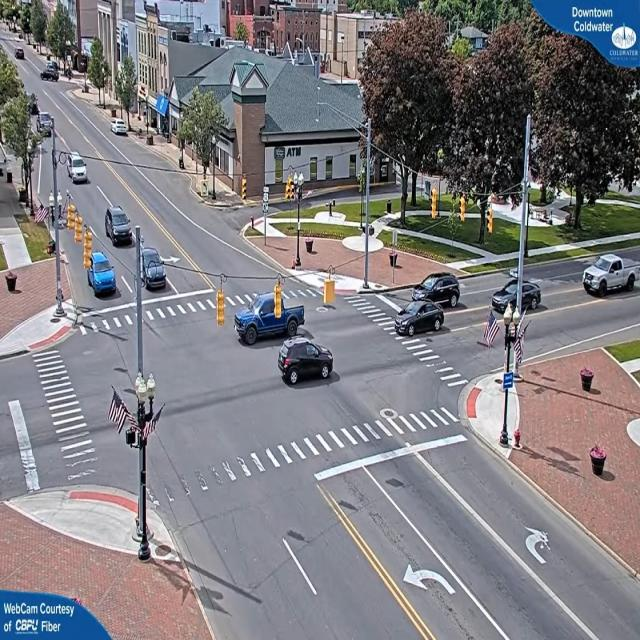car: (234, 285, 304, 341), (277, 338, 336, 389), (580, 255, 637, 298), (396, 298, 447, 334), (417, 273, 462, 307), (86, 252, 119, 296), (140, 248, 168, 291), (106, 207, 135, 246), (66, 153, 88, 184), (525, 282, 545, 312), (40, 115, 56, 138), (112, 120, 129, 136), (16, 50, 27, 63)
